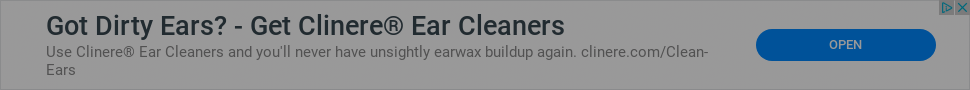fake_button: (749, 25, 943, 74)
